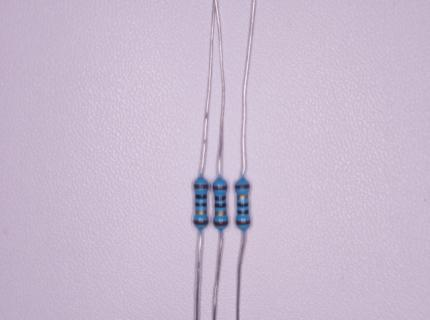Black band: (195, 202, 207, 207), (195, 194, 206, 199), (215, 196, 226, 201), (237, 209, 248, 214), (215, 203, 226, 207), (237, 203, 248, 207)
Brown band: (212, 185, 227, 190), (193, 220, 208, 225), (236, 220, 250, 225), (214, 221, 228, 226), (194, 184, 208, 189), (235, 185, 250, 189)
Gold band: (195, 210, 206, 215), (215, 211, 226, 216), (237, 195, 248, 199)
